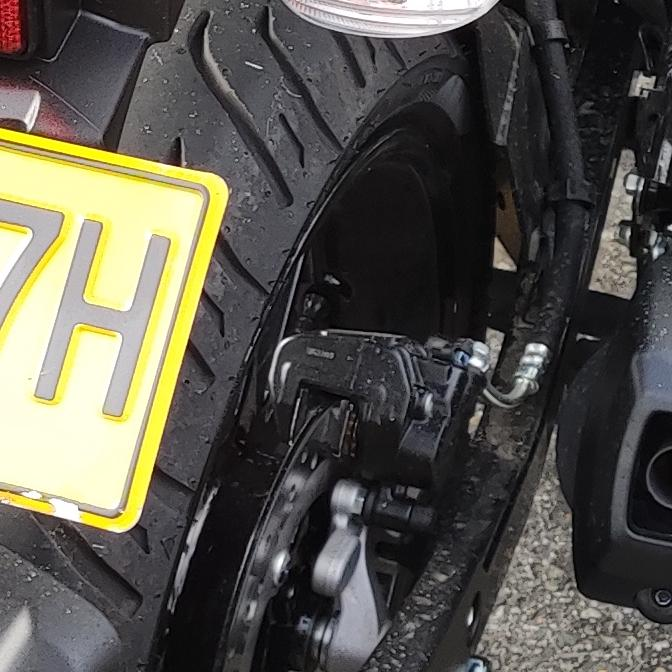plates: (0, 135, 230, 537)
